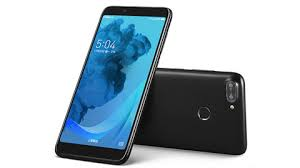lenovo: (49, 1, 178, 165)
